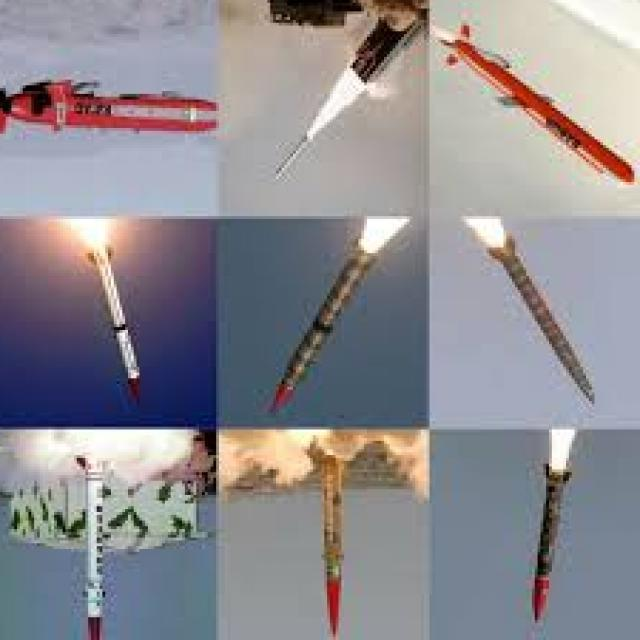missile: (442, 26, 638, 202), (263, 240, 380, 425), (490, 234, 604, 419), (90, 244, 149, 407), (524, 467, 572, 636), (318, 457, 346, 635), (83, 484, 109, 640), (268, 133, 311, 181)
